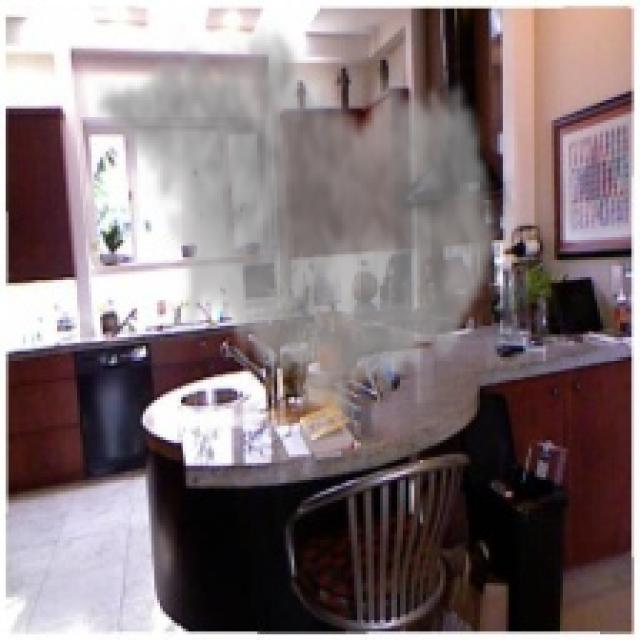smoke: (91, 17, 503, 429)
